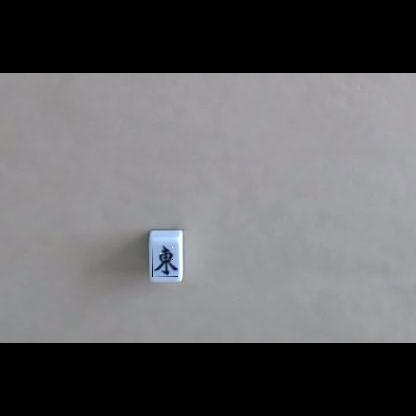1z: (152, 245, 178, 277)
